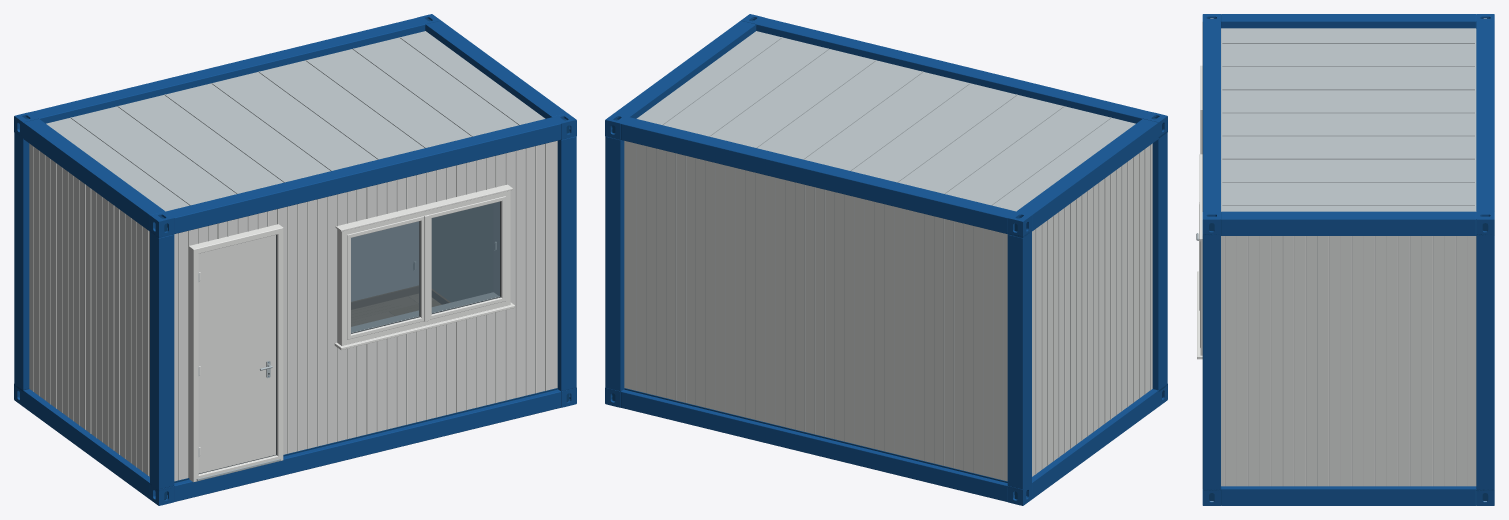
The model's file is buero-4m.glb.
3 views of the same model, side by side, from view 1: azimuth 30°, elevation 25°; view 2: azimuth 150°, elevation 25°; view 3: azimuth 270°, elevation 25° (orthographic).
Parts seen in each view (by area): view 1: Light grey insulated wall panels, Blue powder-coated steel, Galvanised roof sheet, White bevelled PVC joinery, White steel door leaf, Blue-grey clear glazing, Fine panel joints, Recessed blue steel edges, Glazing and door gaskets, Oak coloured skirting, Oak flooring tone 6; view 2: Light grey insulated wall panels, Blue powder-coated steel, Galvanised roof sheet, Fine panel joints, White bevelled PVC joinery, Recessed blue steel edges; view 3: Light grey insulated wall panels, Galvanised roof sheet, Blue powder-coated steel, White bevelled PVC joinery, Fine panel joints.
Boxes of the visible parts, x1,y1,x2,y2 form: Light grey insulated wall panels: [29, 141, 557, 481]; Blue powder-coated steel: [14, 14, 576, 505]; Galvanised roof sheet: [46, 31, 545, 211]; White bevelled PVC joinery: [33, 144, 546, 482]; White steel door leaf: [198, 235, 275, 473]; Blue-grey clear glazing: [351, 201, 499, 332]; Fine panel joints: [56, 144, 545, 480]; Recessed blue steel edges: [14, 19, 576, 499]; Glazing and door gaskets: [199, 201, 500, 473]; Oak coloured skirting: [351, 285, 450, 309]; Oak flooring tone 6: [351, 296, 417, 319]; Light grey insulated wall panels: [624, 141, 1152, 481]; Blue powder-coated steel: [605, 14, 1167, 505]; Galvanised roof sheet: [636, 31, 1135, 211]; Fine panel joints: [636, 143, 1150, 480]; White bevelled PVC joinery: [1036, 144, 1151, 473]; Recessed blue steel edges: [605, 19, 1167, 499]; Light grey insulated wall panels: [1221, 236, 1476, 486]; Galvanised roof sheet: [1221, 28, 1476, 211]; Blue powder-coated steel: [1202, 14, 1494, 505]; White bevelled PVC joinery: [1197, 65, 1467, 486]; Fine panel joints: [1225, 236, 1467, 486].
Bounding box in the file's own units: 4 × 2.6 × 2.45.
